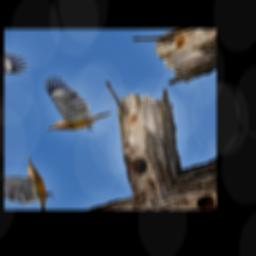Woodpecker: (20, 70, 116, 155)
